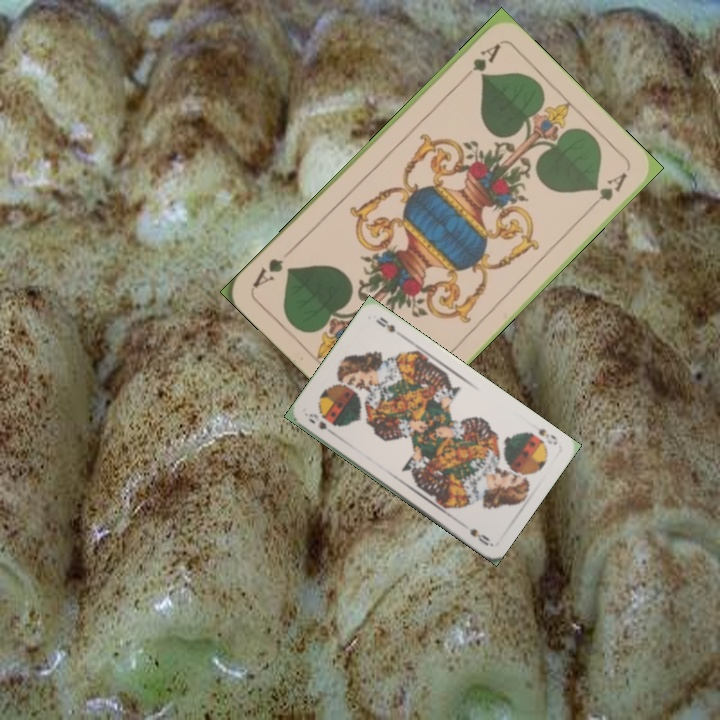GA: (456, 39, 503, 86)
SO: (534, 425, 560, 448), (304, 409, 329, 432)
